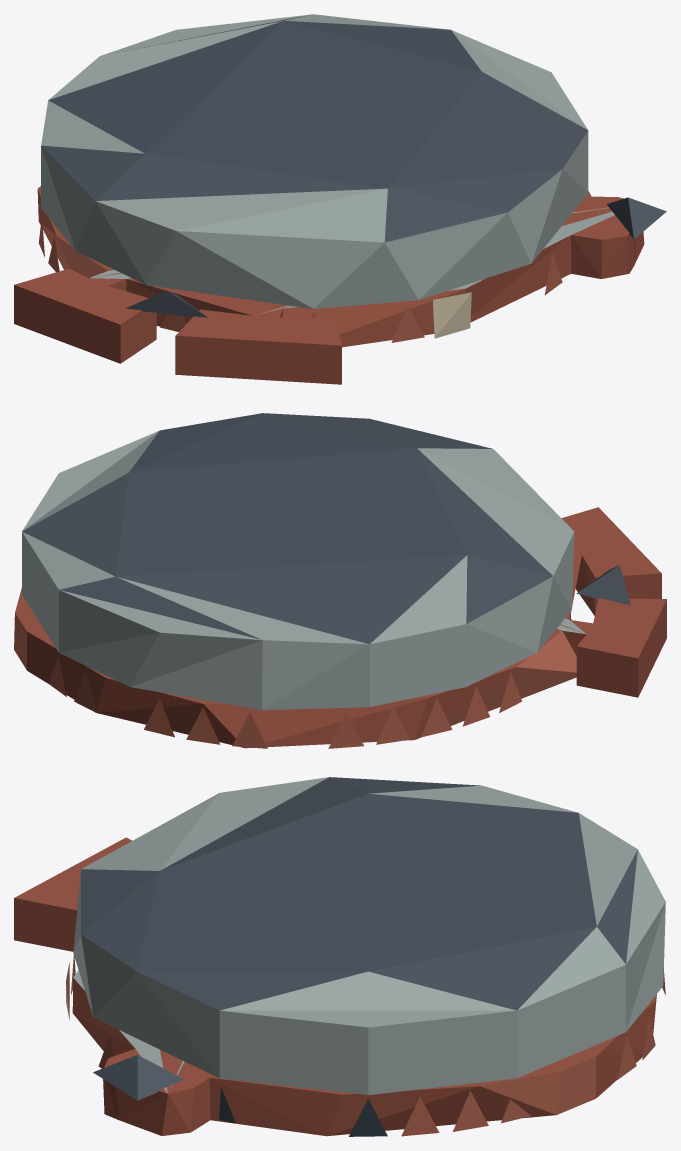
File: gashouder.lod2.glb
The picture shows the model from 3 angles, top to bottom: view 1: azimuth 30°, elevation 25°; view 2: azimuth 150°, elevation 25°; view 3: azimuth 270°, elevation 25°; orthographic projection. The views are drawn at different scales.
Visible parts, largest first — view 1: lod2; view 2: lod2; view 3: lod2.
Boxes of the visible parts, bbox=[...] form: lod2: bbox=[14, 14, 666, 384]; lod2: bbox=[14, 413, 666, 748]; lod2: bbox=[14, 777, 665, 1136].
Bounding box in the file's own units: 75.76 × 15.26 × 69.93.
